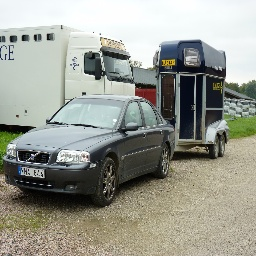sv_licence_plate: (17, 165, 45, 178)
